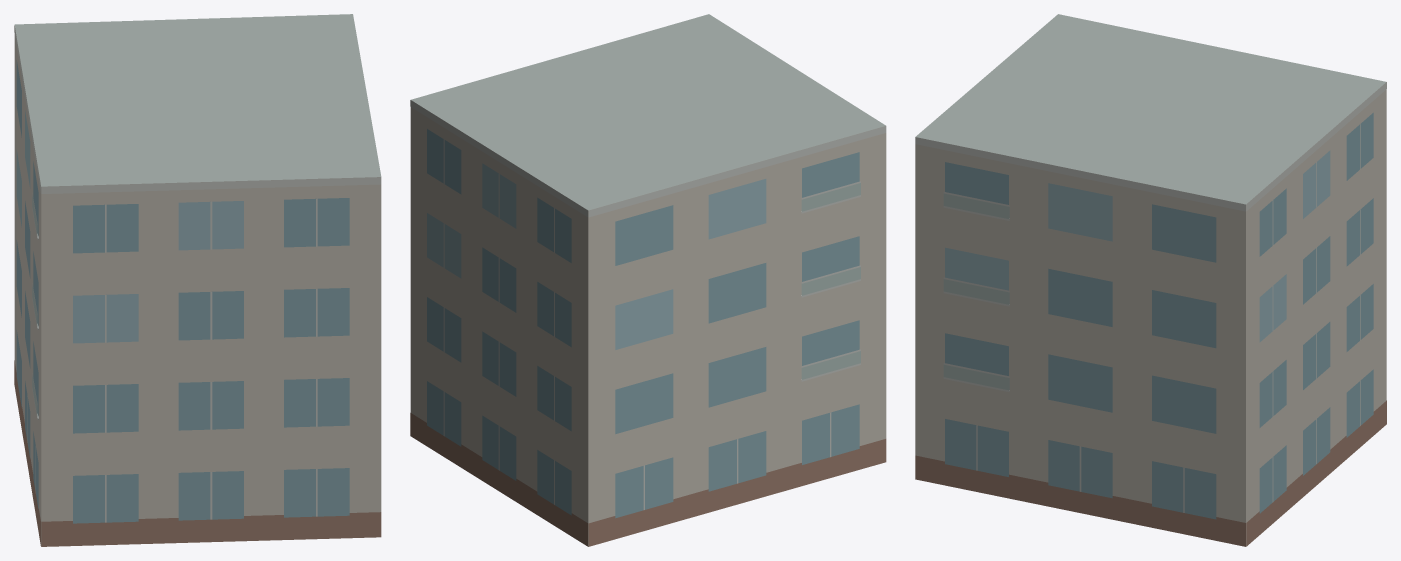
The model's file is survey-upis-32725823.glb.
3 views of the same model, side by side, from view 1: azimuth 30°, elevation 25°; view 2: azimuth 150°, elevation 25°; view 3: azimuth 270°, elevation 25° (orthographic). The views are drawn at different scales.
Visible parts, largest first — view 1: survey-upis-32725823.tmp; view 2: survey-upis-32725823.tmp; view 3: survey-upis-32725823.tmp.
Part boxes in pixels (bbox=[...]): survey-upis-32725823.tmp: bbox=[14, 14, 381, 546]; survey-upis-32725823.tmp: bbox=[410, 14, 886, 546]; survey-upis-32725823.tmp: bbox=[915, 14, 1386, 546].
Size of the model in its own units: 14.03 by 11.75 by 14.68.
